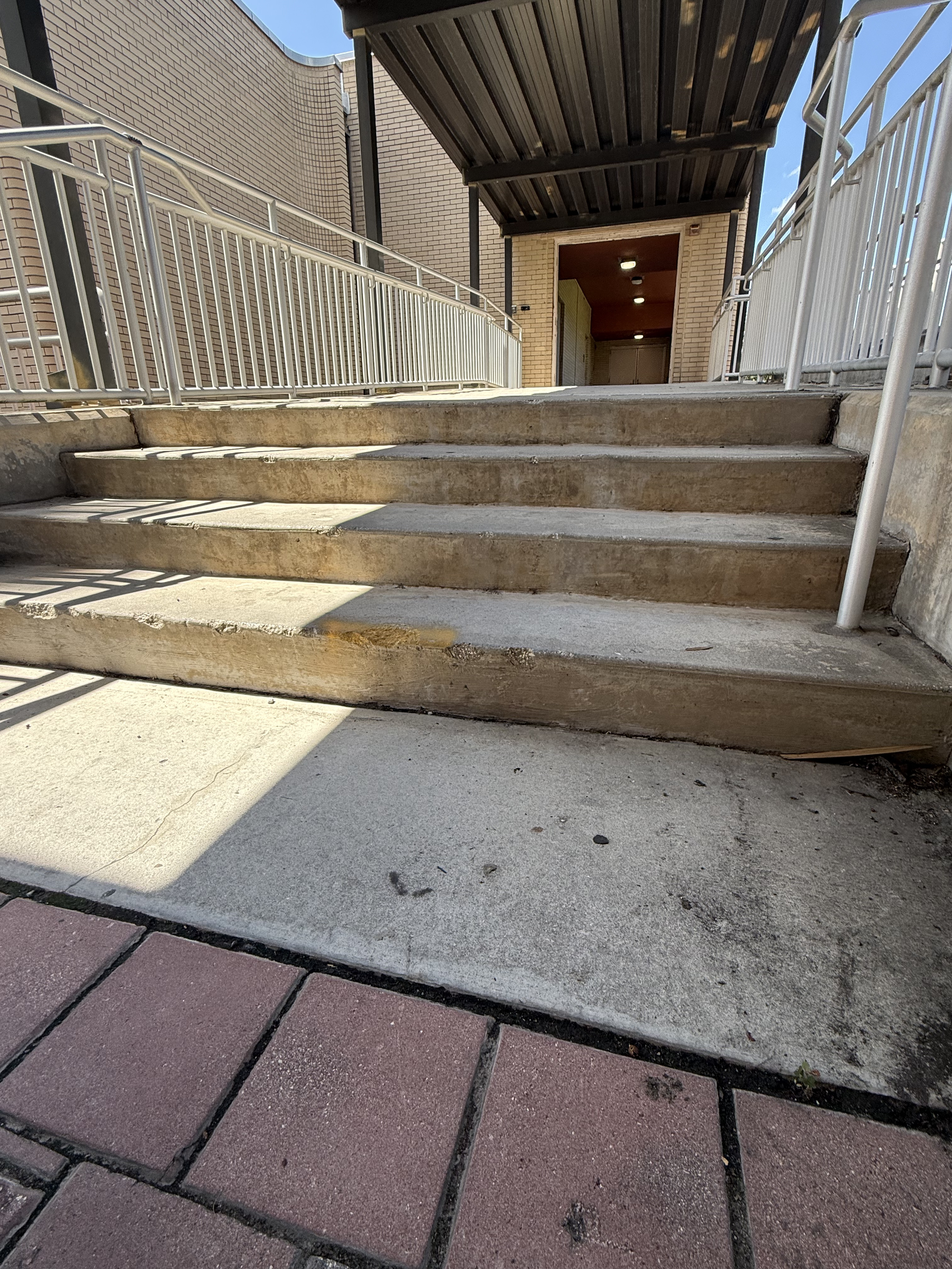stairs: (0, 391, 952, 770)
